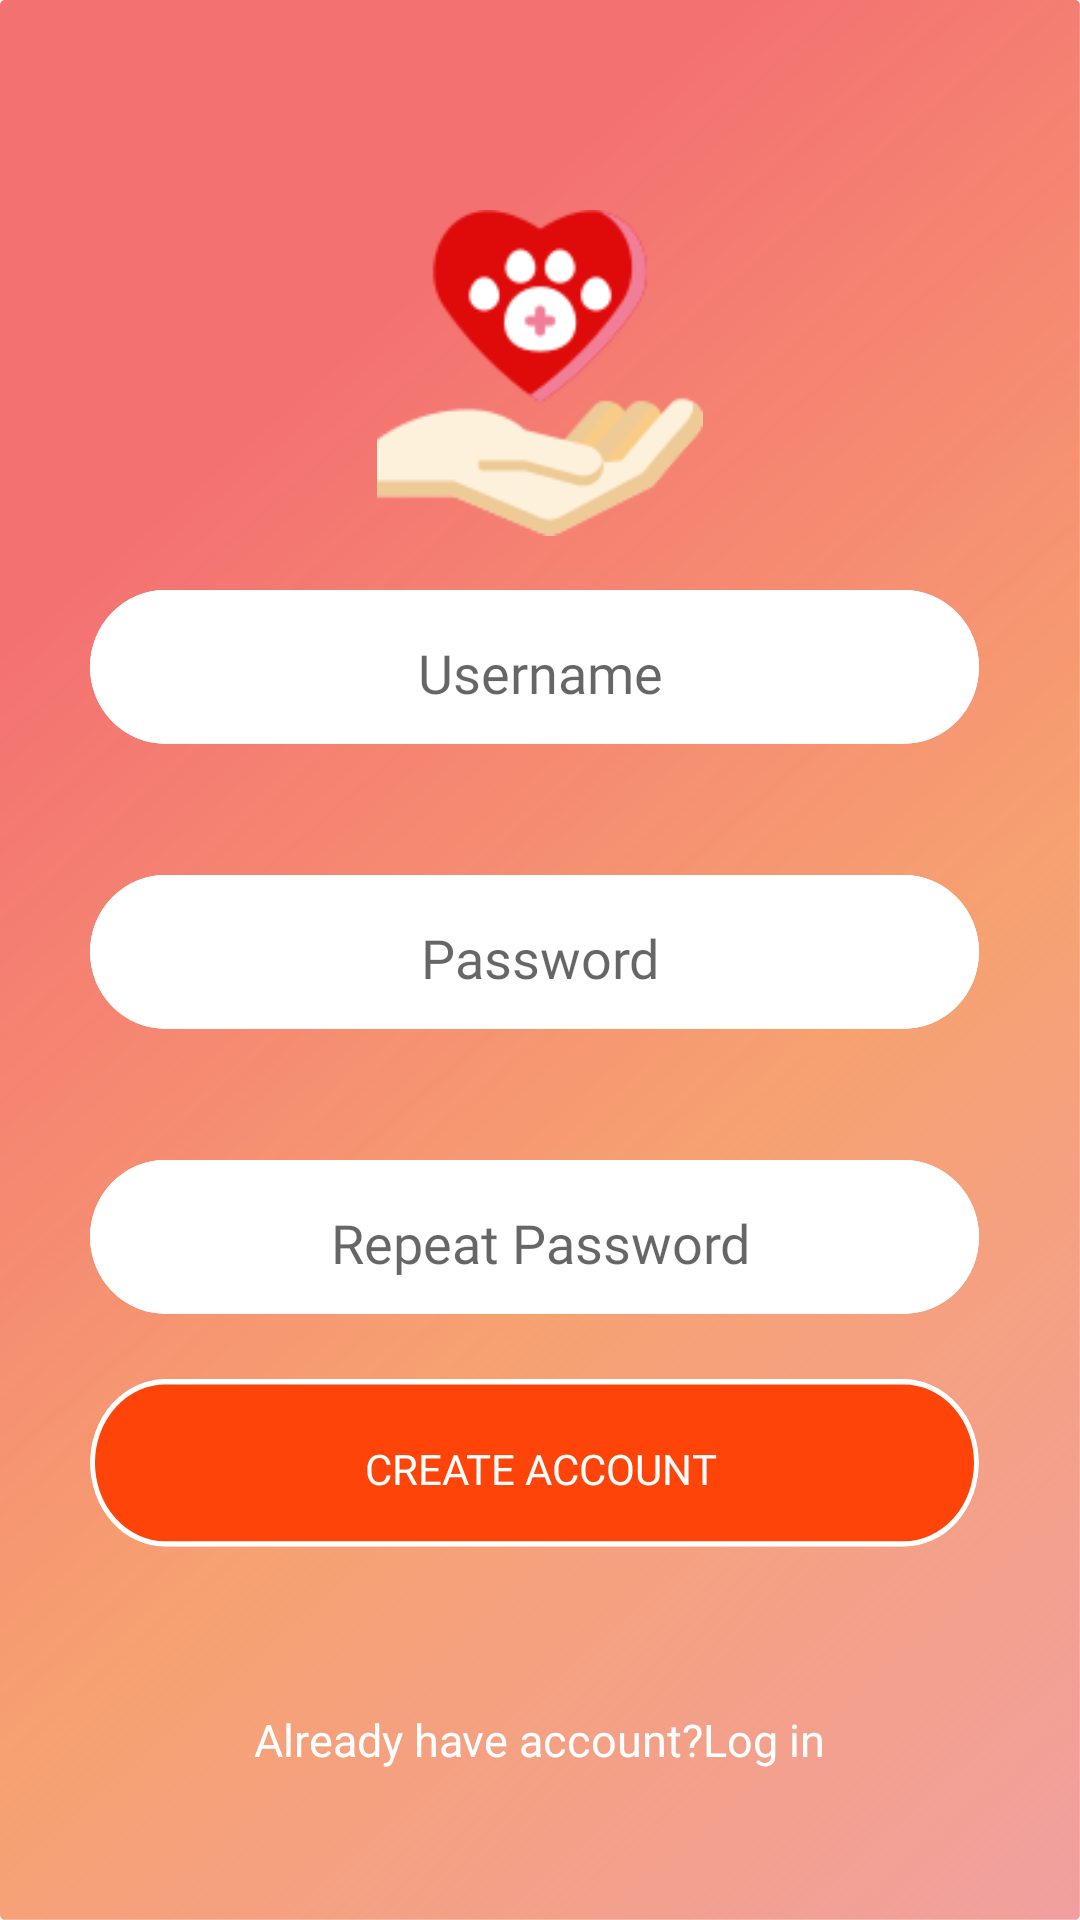

Screen size 1080px x 1920px. Icon name, then its box in pixels as (x1,y1,x2,y2):
care: (377,210,703,536)
